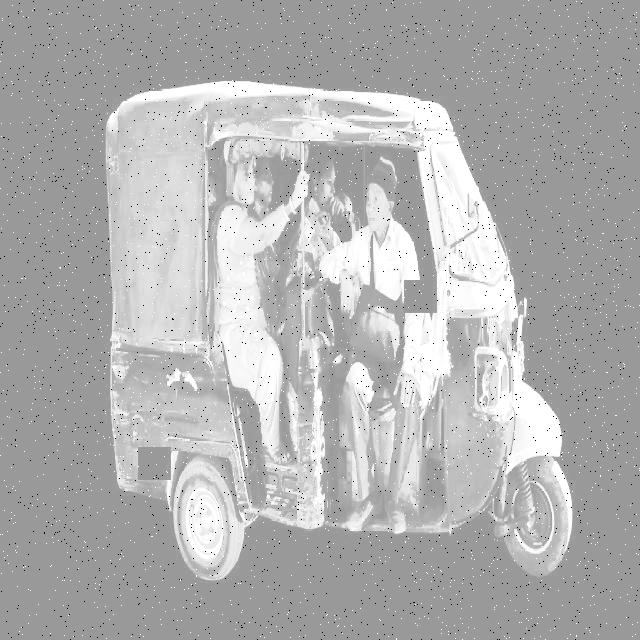Auto-Rickshaw: (94, 81, 592, 590)
